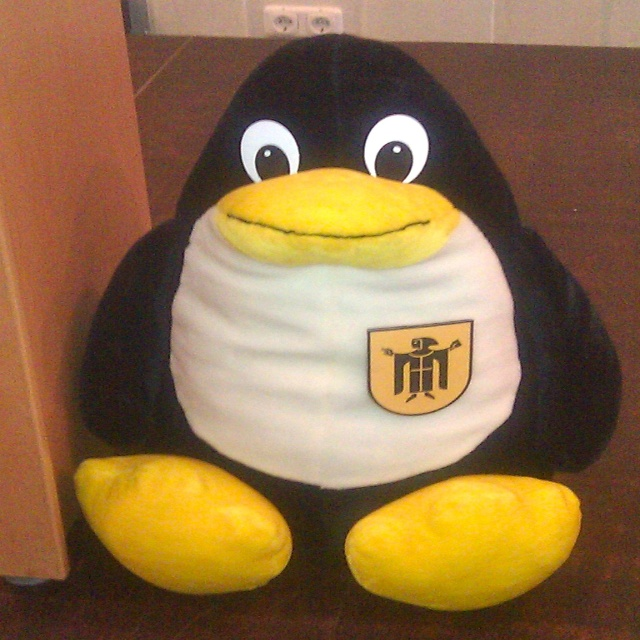Penguin: (74, 32, 624, 610)
